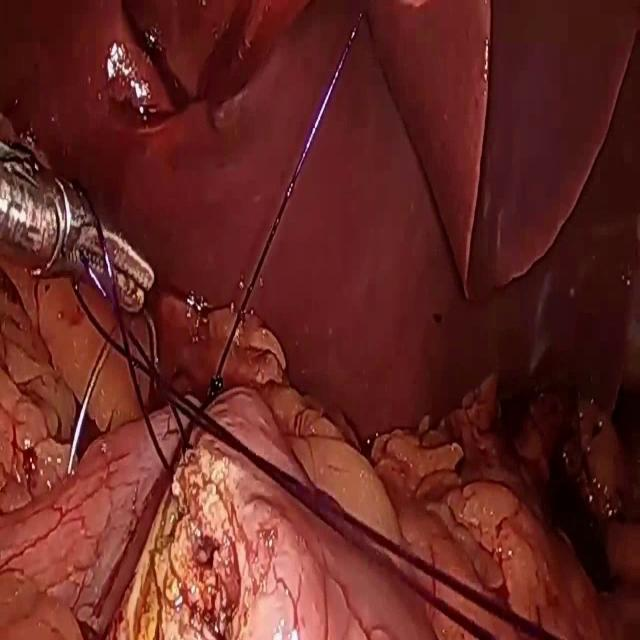surgical-tool: (0, 137, 154, 315)
